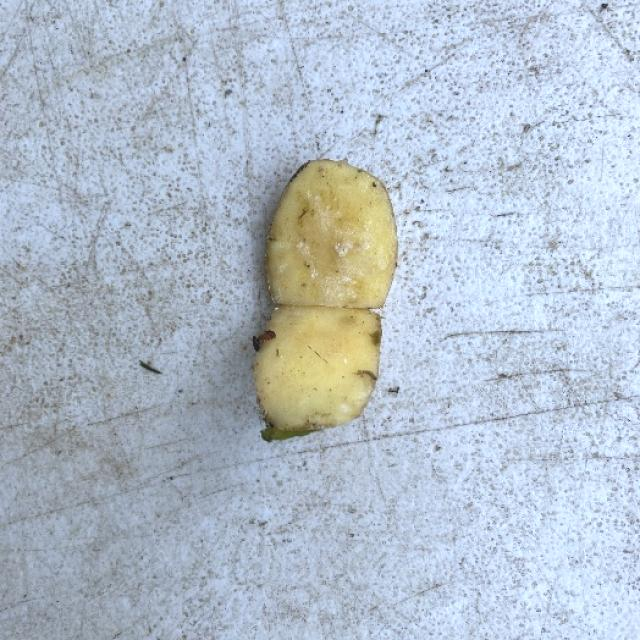organic: (251, 153, 392, 443)
